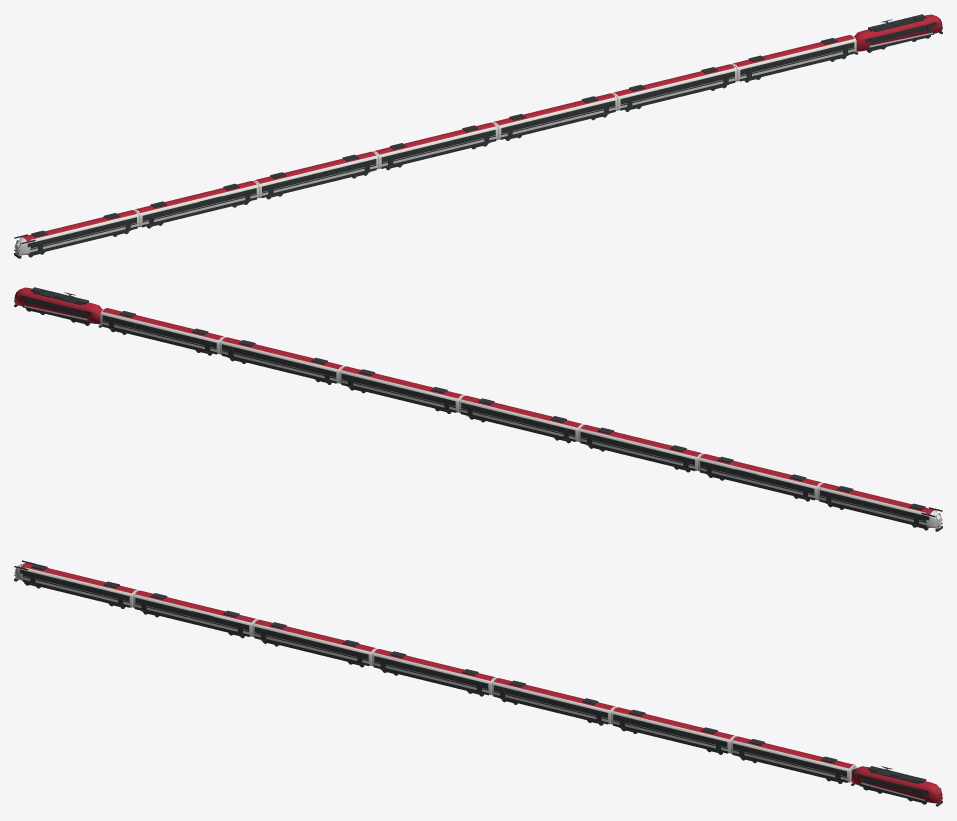
Rendered from railjet-classic-blender.glb.
3 views of the same model, one above another, from view 1: azimuth 30°, elevation 25°; view 2: azimuth 150°, elevation 25°; view 3: azimuth 330°, elevation 25° (orthographic).
Visible parts, largest first — view 1: driving_trailer_lofted_body.001, taurus_lofted_body.001, railjet_economy_lofted_body.002, railjet_economy_lofted_body.001, railjet_economy_lofted_body.003, railjet_economy_lofted_body.004, railjet_restaurant_lofted_body.001, railjet_first_lofted_body.001, economy_red_roof.001, economy_red_roof.003, economy_red_roof.004, restaurant_red_roof.001 (+3 smaller); view 2: driving_trailer_lofted_body.001, taurus_lofted_body.001, railjet_economy_lofted_body.002, railjet_economy_lofted_body.001, railjet_economy_lofted_body.003, railjet_economy_lofted_body.004, railjet_restaurant_lofted_body.001, railjet_first_lofted_body.001, economy_red_roof.001, economy_red_roof.003, economy_red_roof.004, restaurant_red_roof.001 (+3 smaller); view 3: taurus_lofted_body.001, railjet_economy_lofted_body.001, railjet_restaurant_lofted_body.001, railjet_economy_lofted_body.002, railjet_economy_lofted_body.003, railjet_economy_lofted_body.004, railjet_first_lofted_body.001, driving_trailer_lofted_body.001, economy_red_roof.001, economy_red_roof.002, restaurant_red_roof.001, economy_red_roof.003 (+3 smaller).
Part boxes in pixels (<box>): driving_trailer_lofted_body.001: <box>15,210,139,255</box>; taurus_lofted_body.001: <box>854,14,942,51</box>; railjet_economy_lofted_body.002: <box>612,64,737,110</box>; railjet_economy_lofted_body.001: <box>732,35,856,81</box>; railjet_economy_lofted_body.003: <box>493,93,617,139</box>; railjet_economy_lofted_body.004: <box>373,122,497,168</box>; railjet_restaurant_lofted_body.001: <box>253,151,378,197</box>; railjet_first_lofted_body.001: <box>134,181,258,227</box>; economy_red_roof.001: <box>733,35,855,66</box>; economy_red_roof.003: <box>494,93,614,125</box>; economy_red_roof.004: <box>375,122,495,154</box>; restaurant_red_roof.001: <box>255,151,375,183</box>; driving_trailer_lofted_body.001: <box>817,483,941,528</box>; taurus_lofted_body.001: <box>14,287,102,324</box>; railjet_economy_lofted_body.002: <box>219,337,344,383</box>; railjet_economy_lofted_body.001: <box>100,308,224,354</box>; railjet_economy_lofted_body.003: <box>339,366,463,412</box>; railjet_economy_lofted_body.004: <box>459,395,583,441</box>; railjet_restaurant_lofted_body.001: <box>578,424,703,470</box>; railjet_first_lofted_body.001: <box>698,454,822,500</box>; economy_red_roof.001: <box>101,308,223,339</box>; economy_red_roof.003: <box>342,366,462,398</box>; economy_red_roof.004: <box>461,395,581,427</box>; restaurant_red_roof.001: <box>581,424,701,456</box>; taurus_lofted_body.001: <box>852,766,942,803</box>; railjet_economy_lofted_body.001: <box>730,736,856,782</box>; railjet_restaurant_lofted_body.001: <box>252,619,377,665</box>; railjet_economy_lofted_body.002: <box>611,707,735,753</box>; railjet_economy_lofted_body.003: <box>491,678,616,724</box>; railjet_economy_lofted_body.004: <box>372,649,496,695</box>; railjet_first_lofted_body.001: <box>133,590,257,636</box>; driving_trailer_lofted_body.001: <box>15,564,137,607</box>; economy_red_roof.001: <box>732,736,854,768</box>; economy_red_roof.002: <box>613,707,733,740</box>; restaurant_red_roof.001: <box>254,619,375,653</box>; economy_red_roof.003: <box>494,678,614,711</box>.
Size of the model in its own units: 206 by 5.54 by 3.35.
